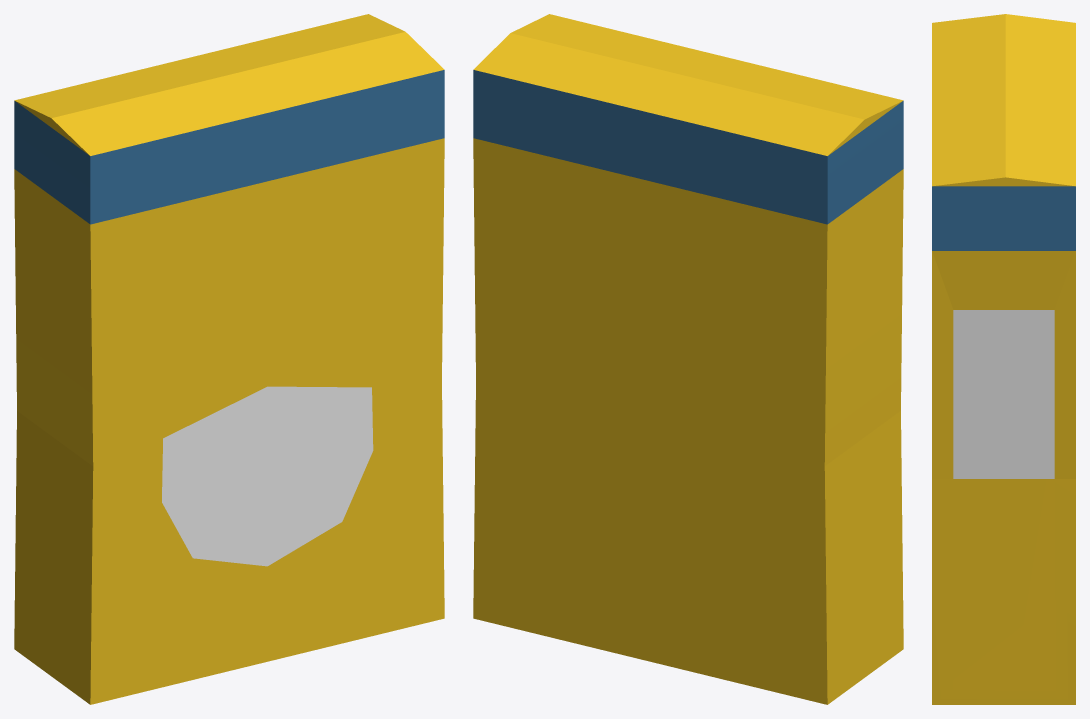
File: cereal-box.glb
3 renders of one model, left to right at view 1: azimuth 30°, elevation 25°; view 2: azimuth 150°, elevation 25°; view 3: azimuth 270°, elevation 25°, orthographic. The views are drawn at different scales.
Visible parts, largest first — view 1: cereal-box; view 2: cereal-box; view 3: cereal-box.
Boxes of the visible parts, left/top/right/bottom form: cereal-box: left=14, top=14, right=444, bottom=704; cereal-box: left=473, top=14, right=903, bottom=704; cereal-box: left=932, top=14, right=1075, bottom=704.
Size of the model in its own units: 0.25 by 0.3764 by 0.0931.
Materials: 1 (1 with a texture image).
